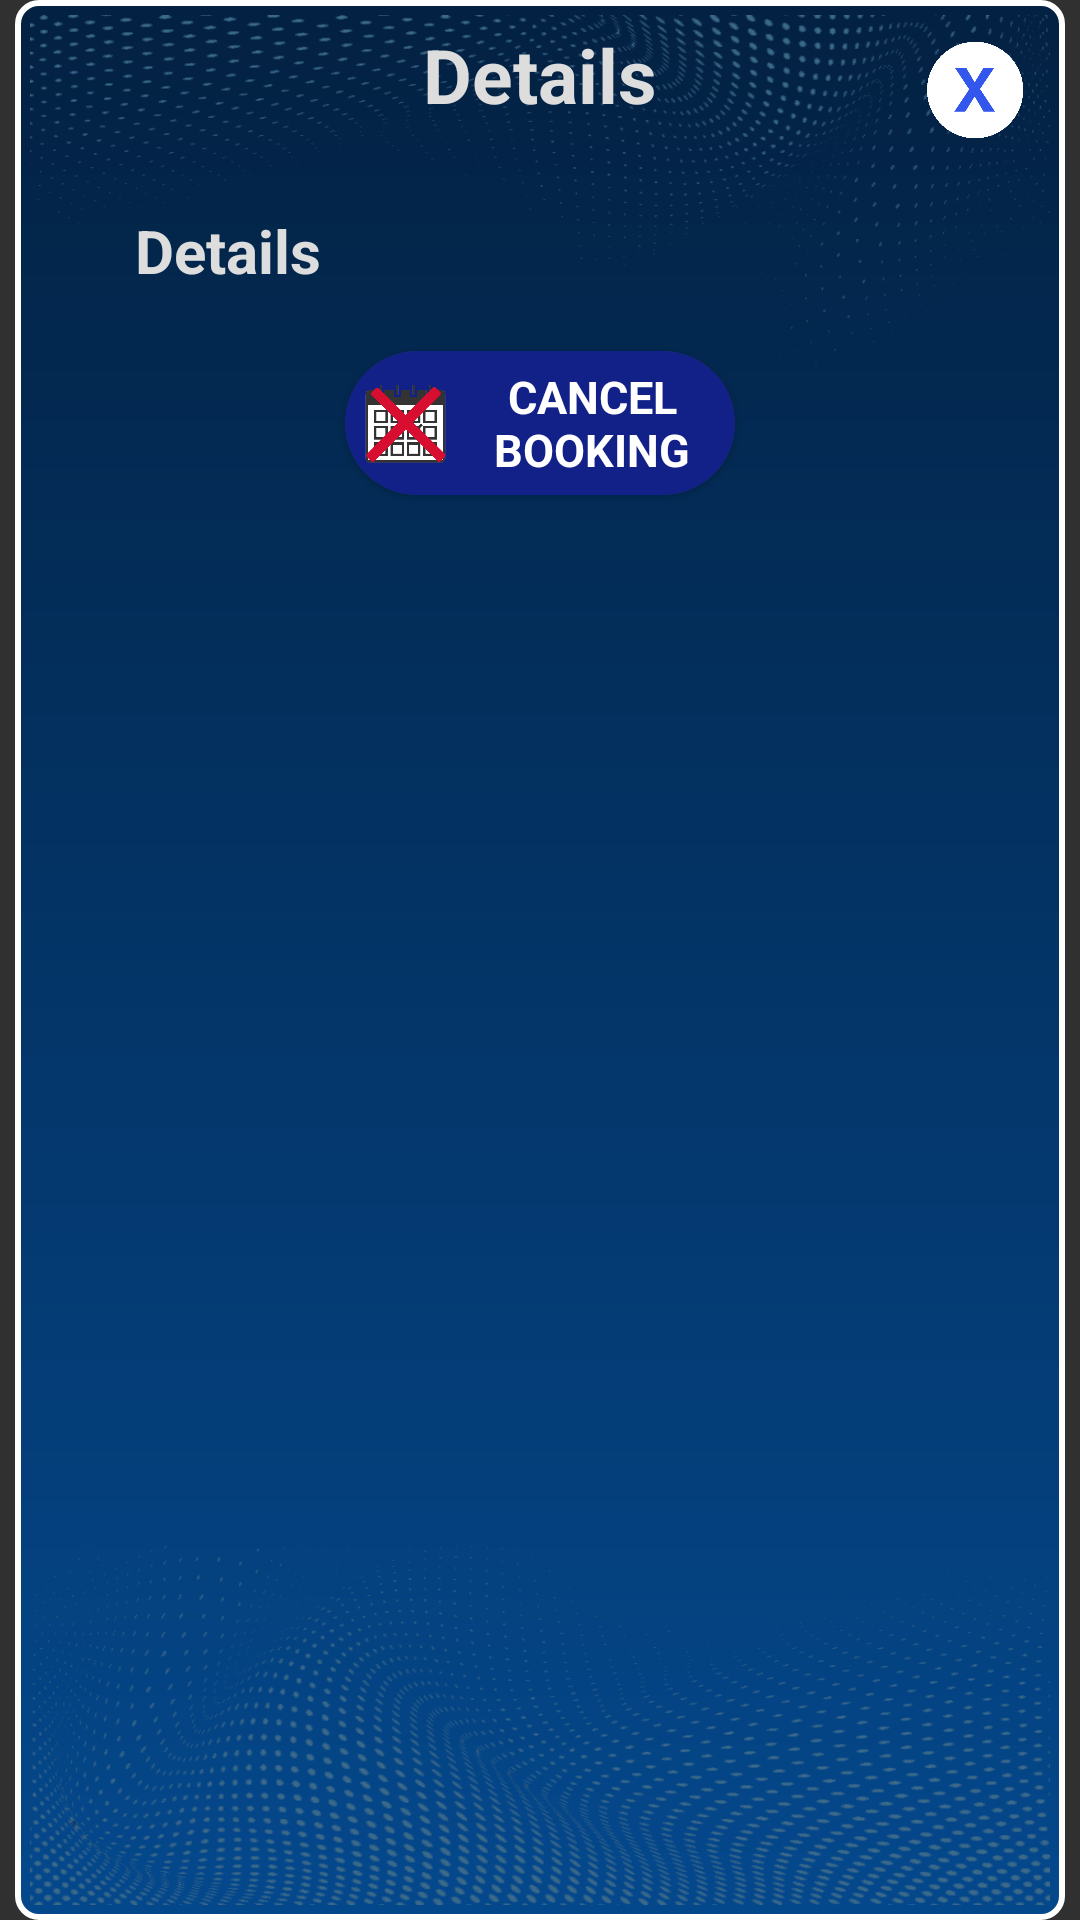

Icon bounding boxes for this 1080 x 1920 phone screenshot, format (x1, y1, x2, y2):
close: (915, 30, 1035, 150)
